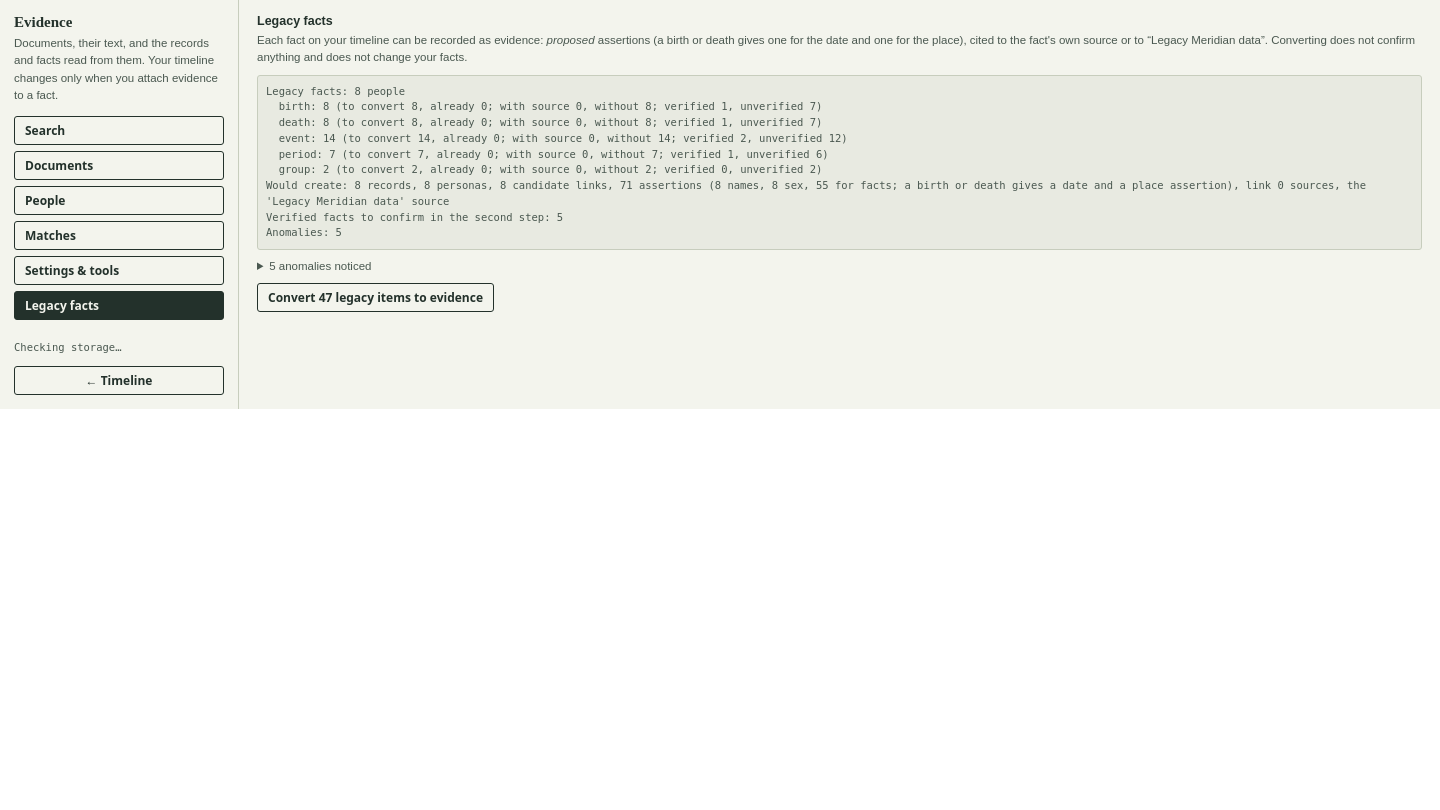
Test case: Evidence panel: legacy facts (P4.T3, P4.T4 UI) › shows the dry-run report, converts on click, then offers the one-time confirmation of verified facts
This screenshot has width=1440, height=810.
Expected: the text with test id "dry-run" shows "Would create: 8 records", [266,84,1372,238]
What coordinates should you click on to do the following:
click the button "Convert 47 legacy items to evidence"
I would click on:
 (376, 298)
Its box is [257,283,494,312].
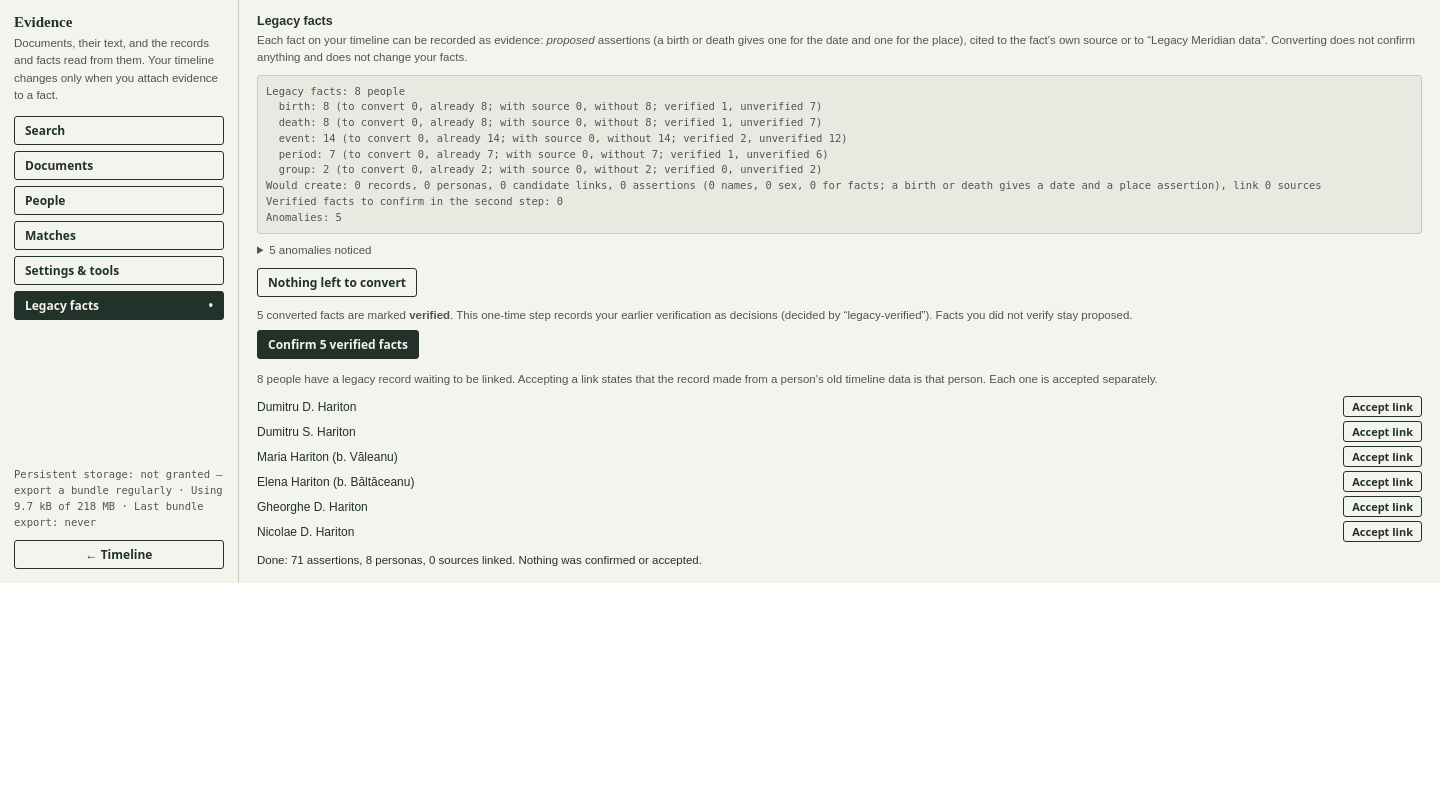
Now the message shows "Done: 71 assertions, 8 personas", box [257,554,702,566]
Now the message shows "Nothing was confirmed or accepted", box [257,554,702,566]
Now the button "Nothing left to convert" is disabled, box [257,268,417,296]
What coordinates should you click on to do the following:
click the button "Confirm 5 verified facts"
I would click on:
 (338, 344)
Its box is [257,330,419,359].
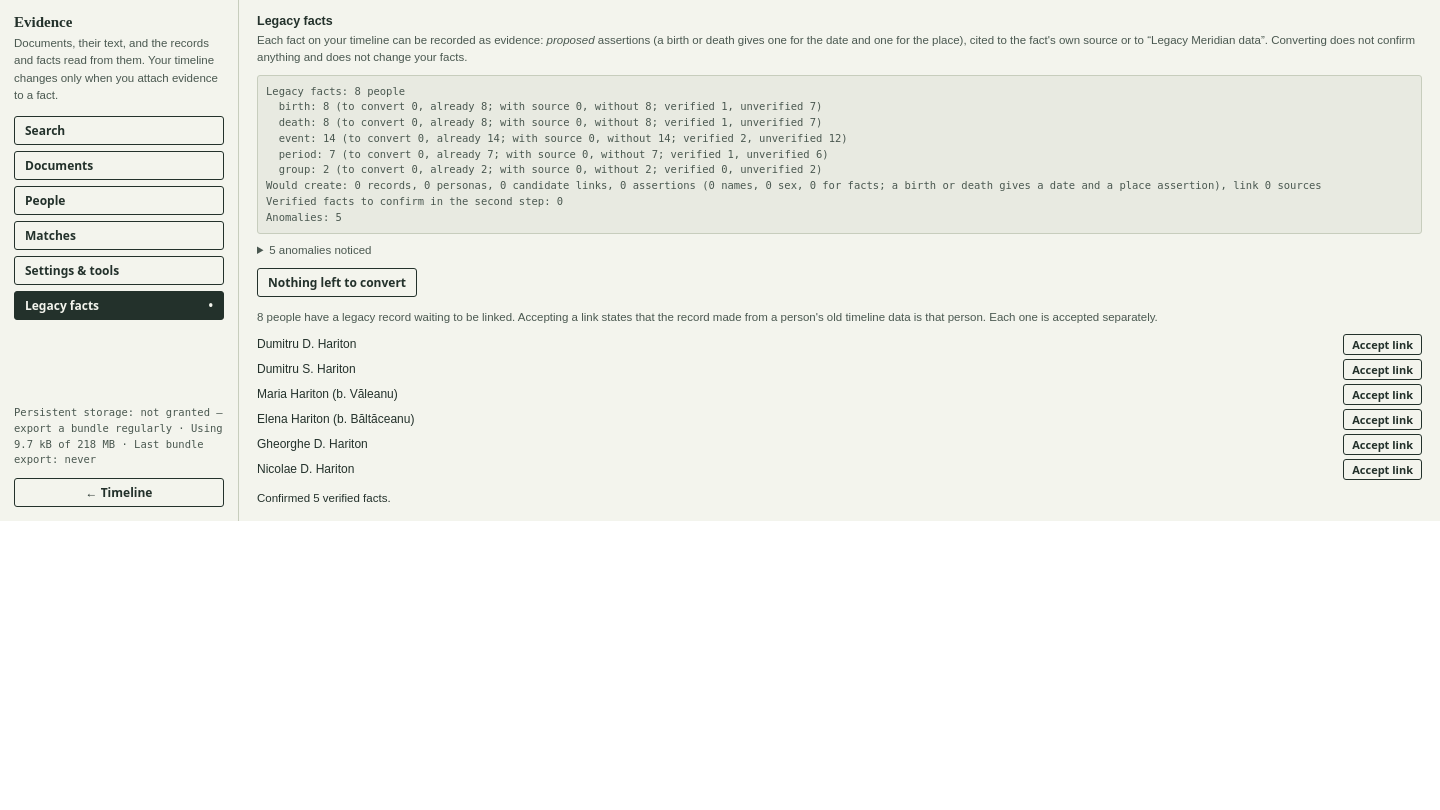
Now the message shows "Confirmed 5 verified facts", box [257,492,391,504]
